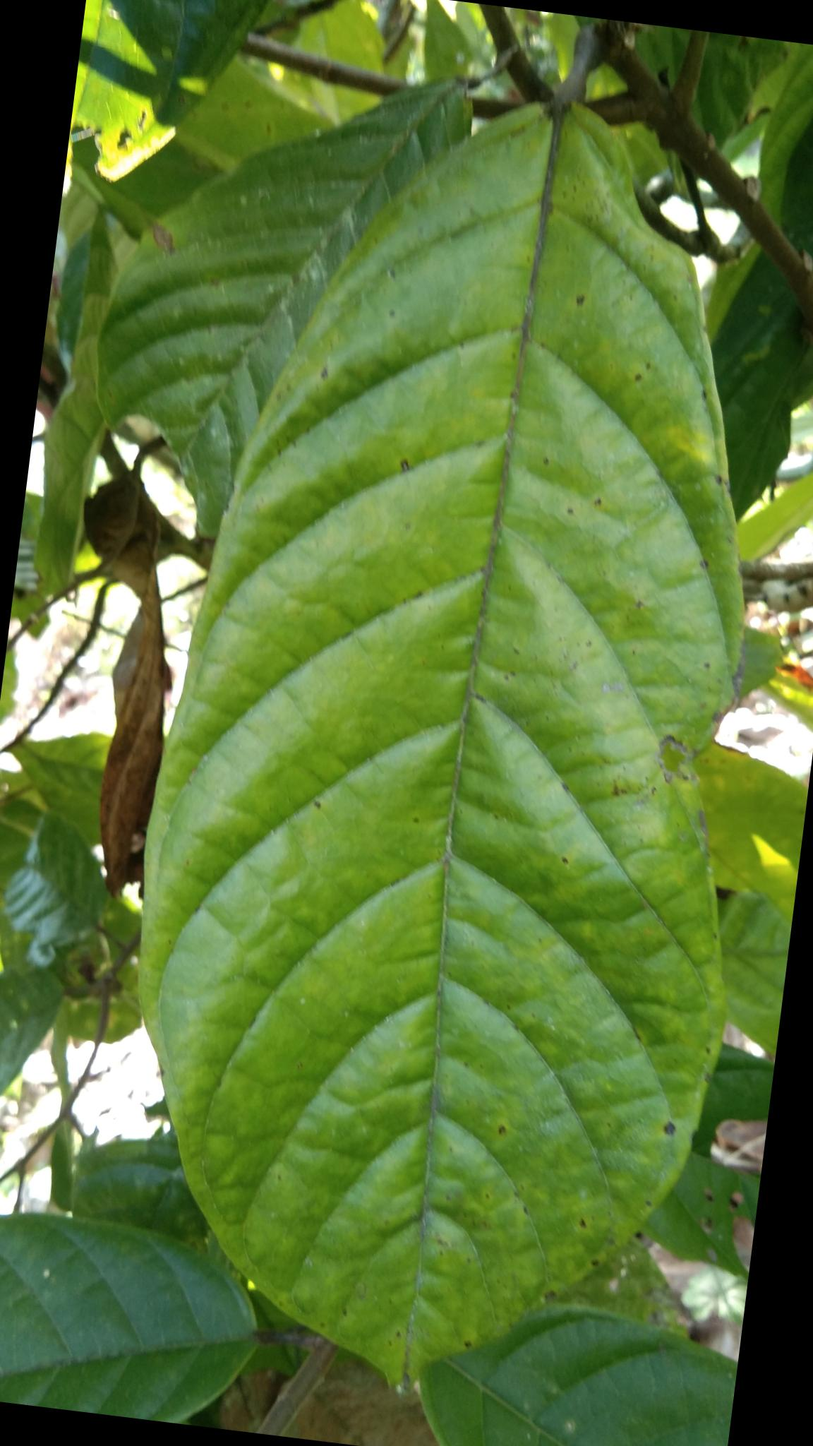Fosforo: (144, 89, 741, 1385)
